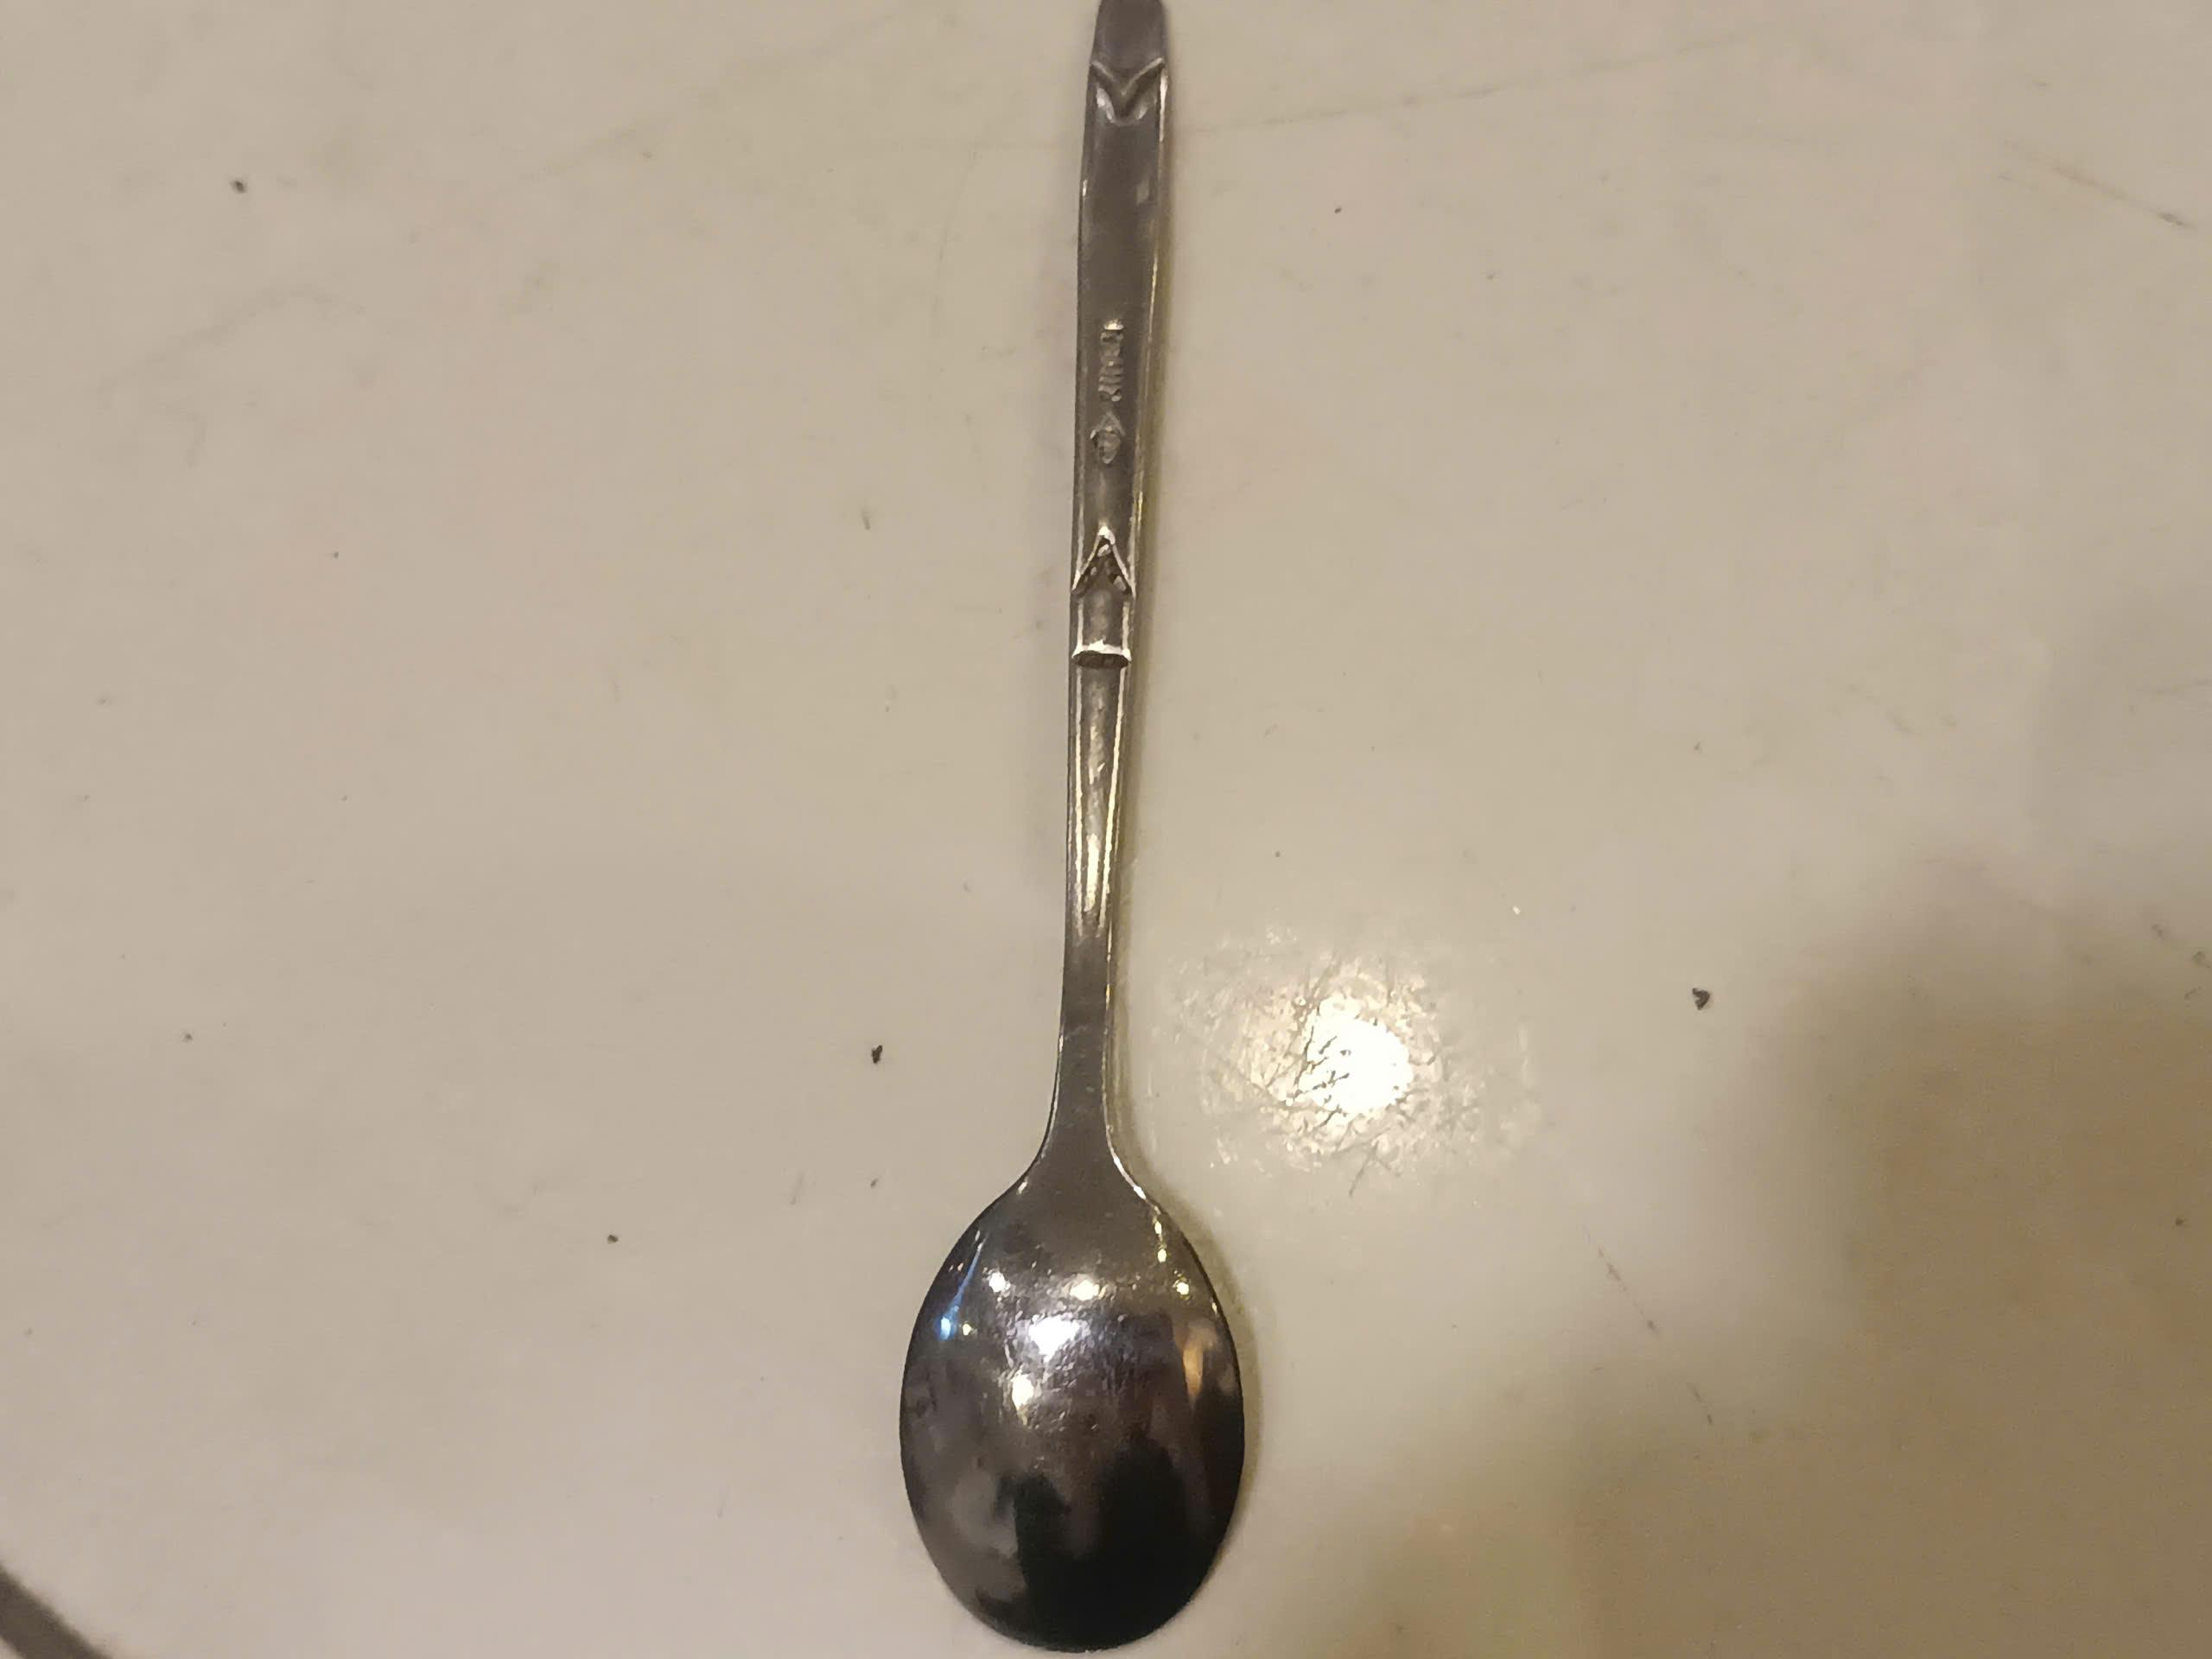Vo co: (899, 0, 1247, 1649)
